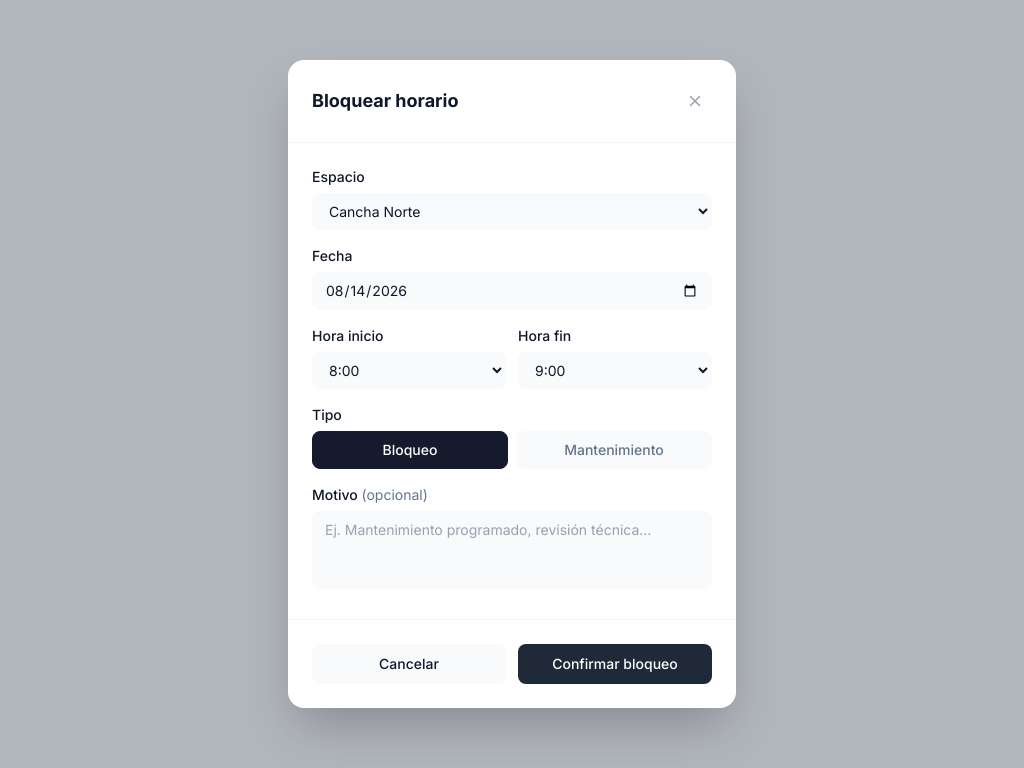
Test: BlockModal › muestra el error del backend sin cerrar el modal
Click the button "Confirmar bloqueo". click: (615, 664)
box: x1=518 y1=644 x2=712 y2=684
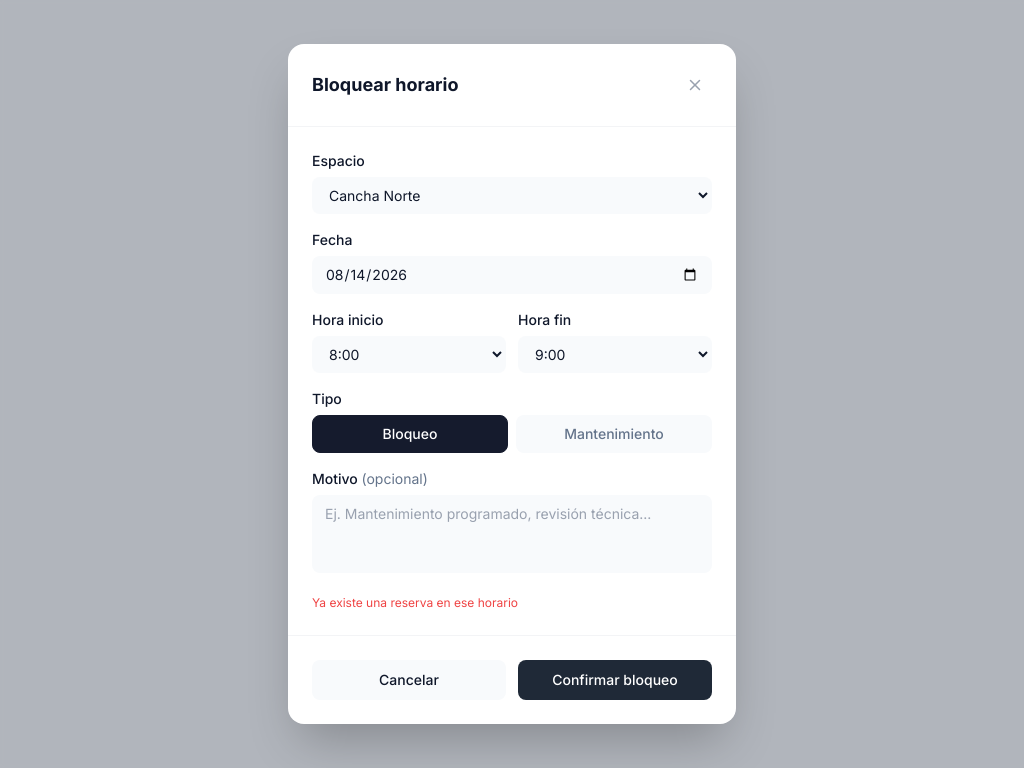
Result: the text "Ya existe una reserva en ese horario" is shown at x1=312 y1=595 x2=518 y2=610
